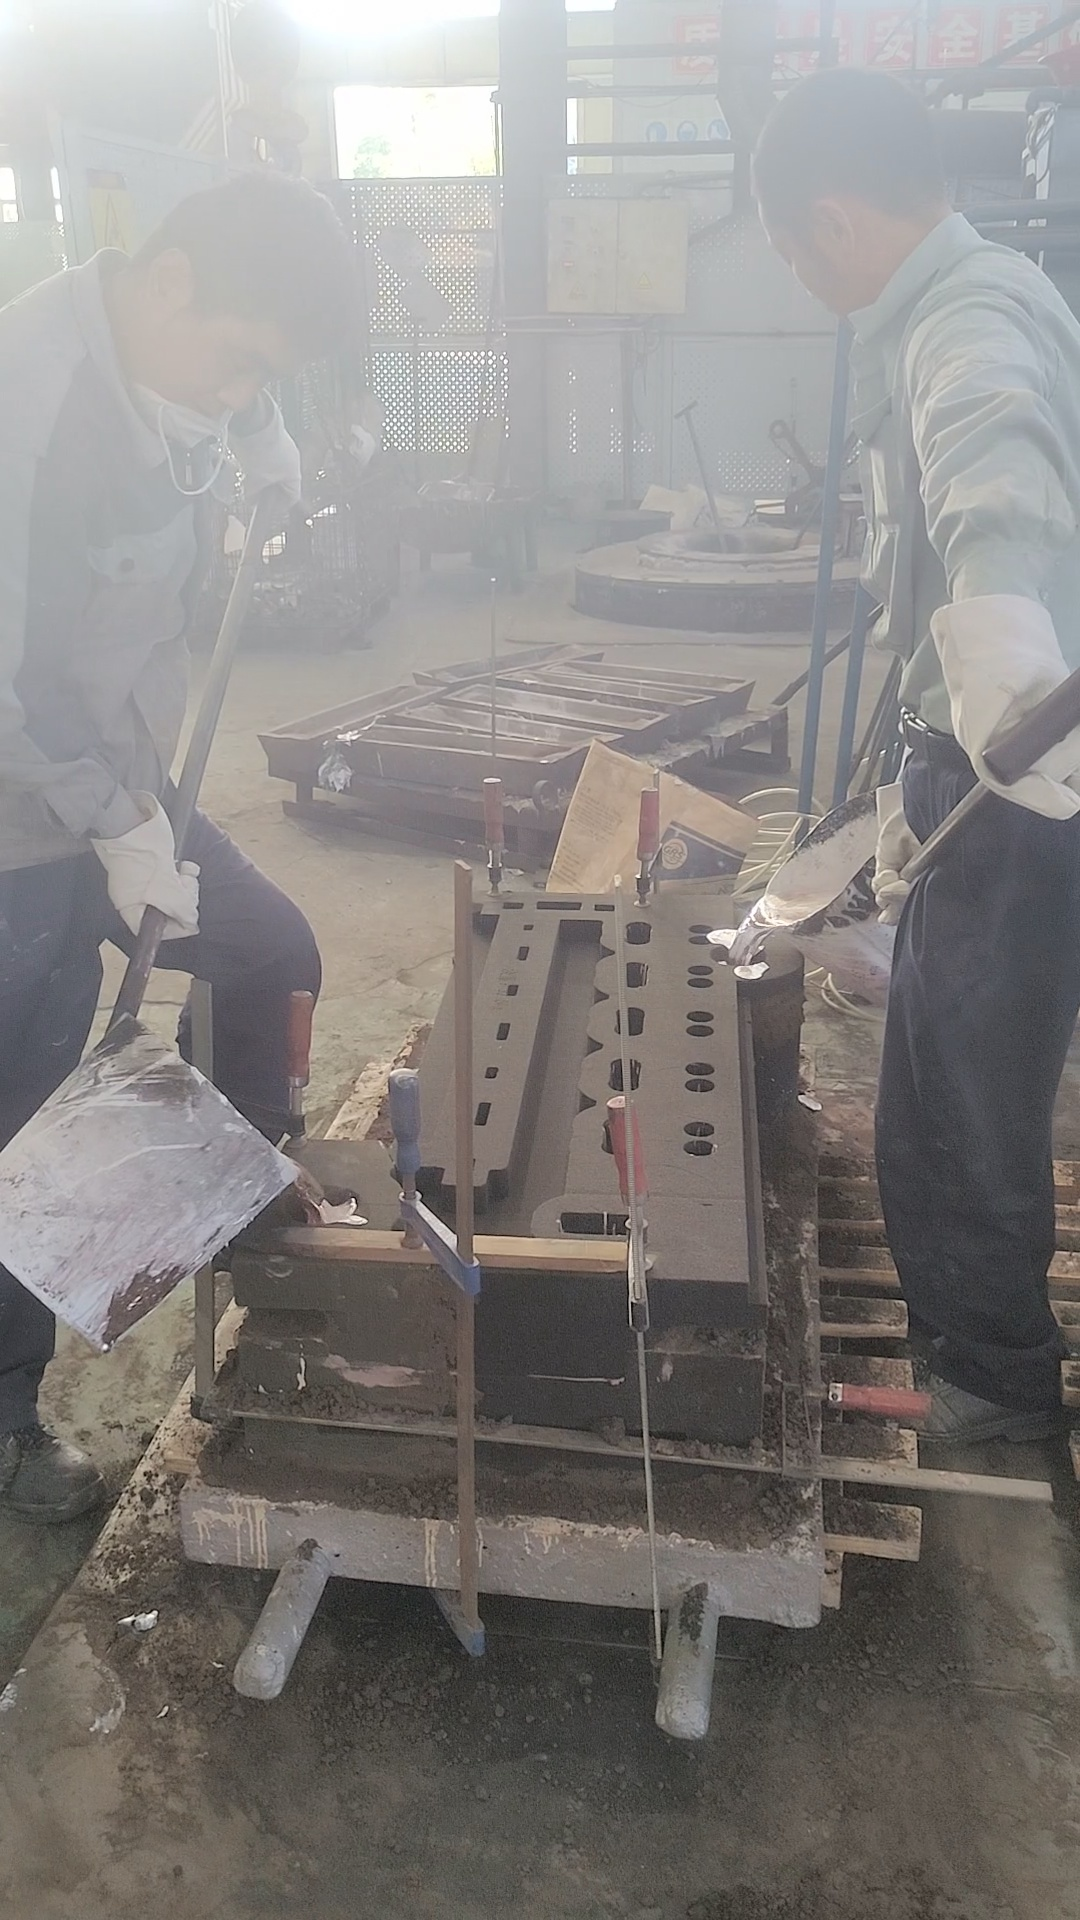pouring hole: (280, 1183, 357, 1229), (708, 942, 769, 968)
